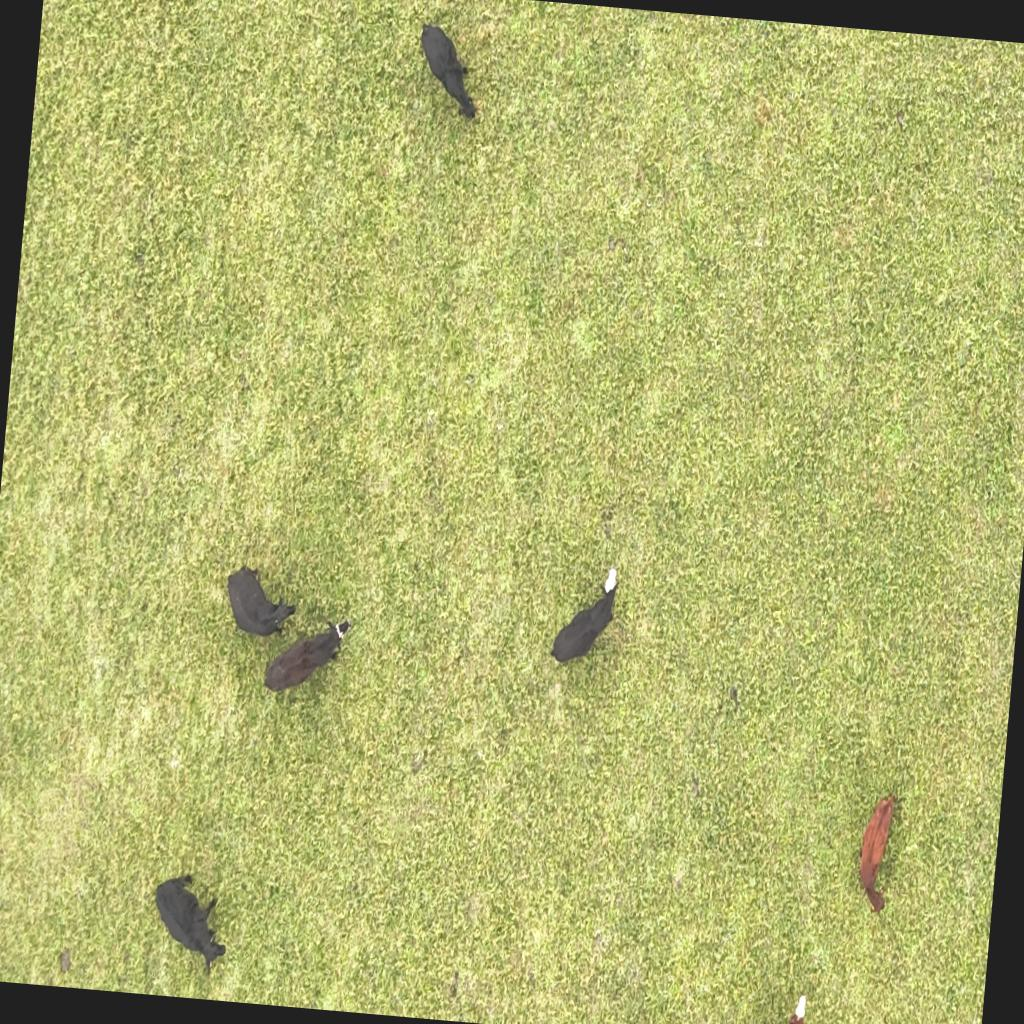cow: (147, 868, 234, 979), (545, 554, 626, 672), (258, 609, 348, 705), (411, 17, 486, 124), (219, 562, 301, 648), (850, 786, 896, 916), (743, 985, 810, 1024)
